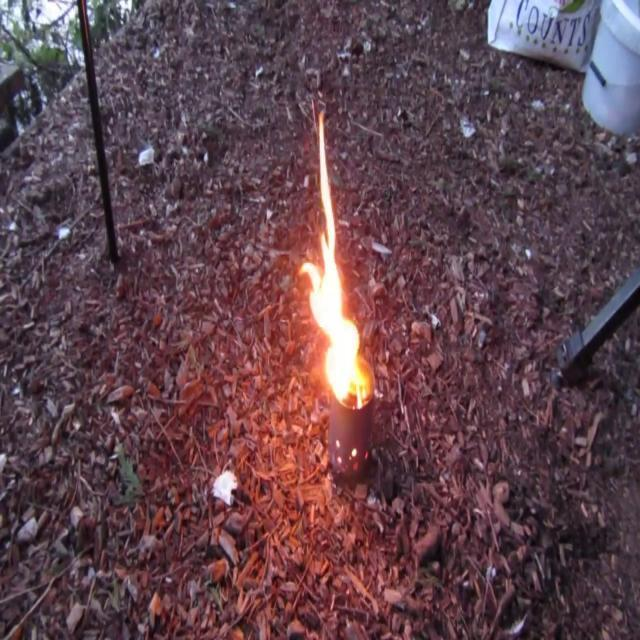Fire: (297, 147, 367, 403)
